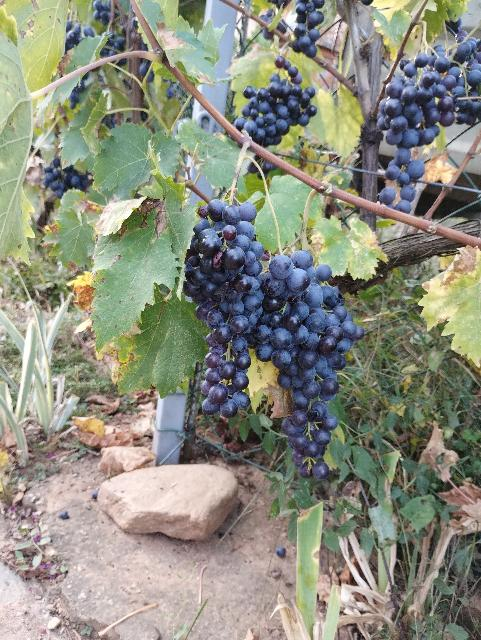grapes: (254, 250, 365, 480), (182, 199, 265, 419), (378, 45, 481, 214), (235, 74, 318, 146)
